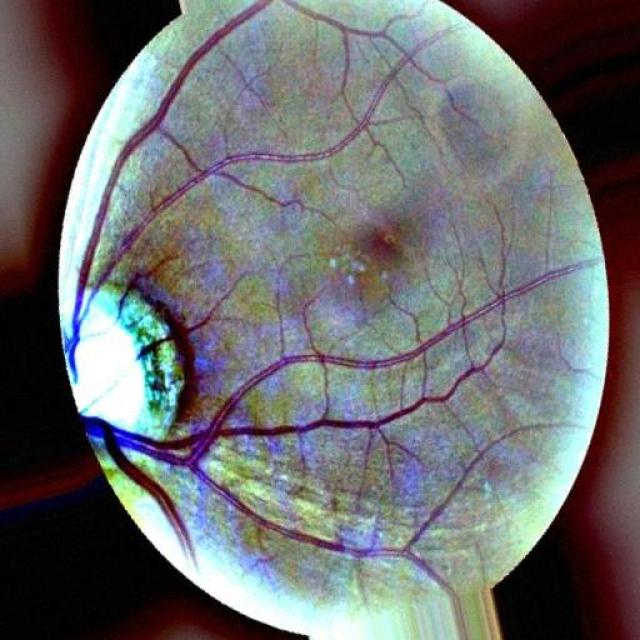Macula: (346, 212, 412, 280)
Nerves: (83, 257, 595, 559), (75, 1, 412, 344)
Optic Disk: (54, 290, 185, 467)
